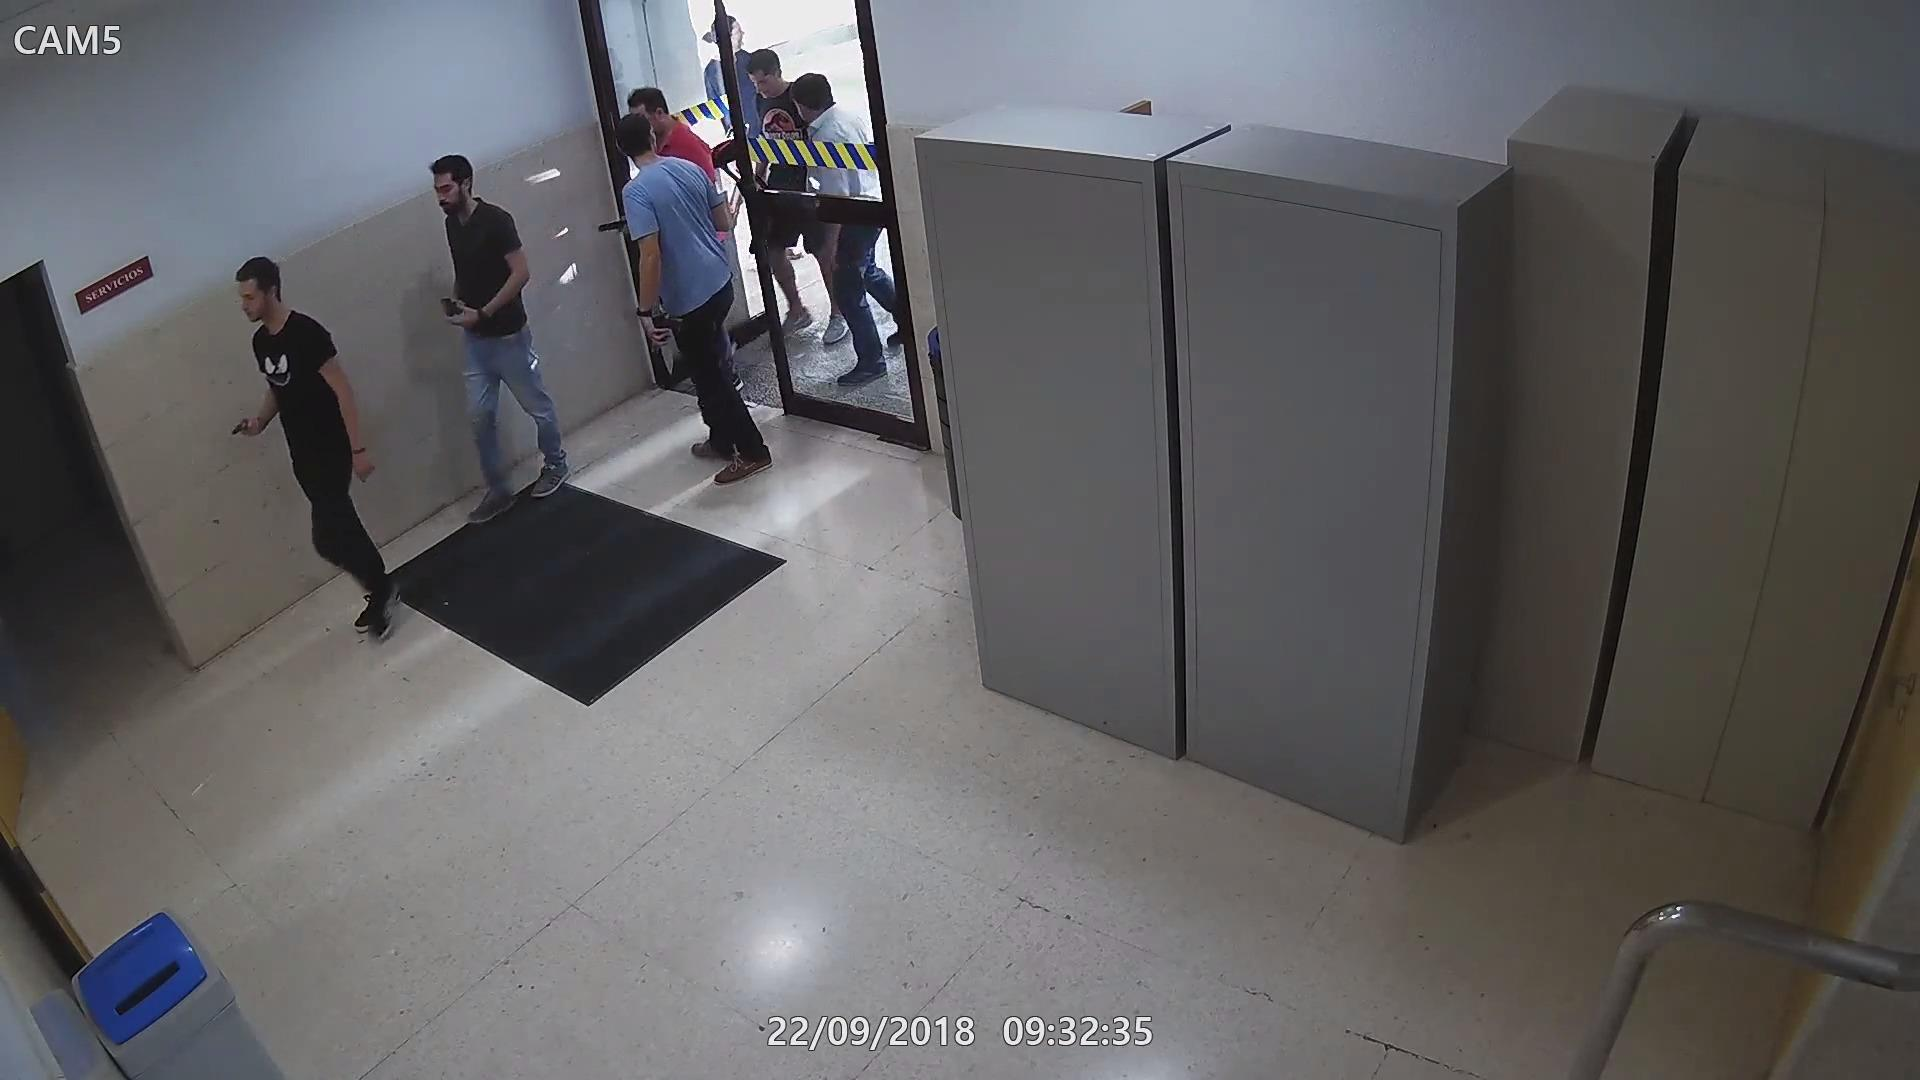Handgun: (647, 311, 686, 356), (438, 294, 476, 327), (227, 414, 265, 440), (596, 211, 633, 237)
